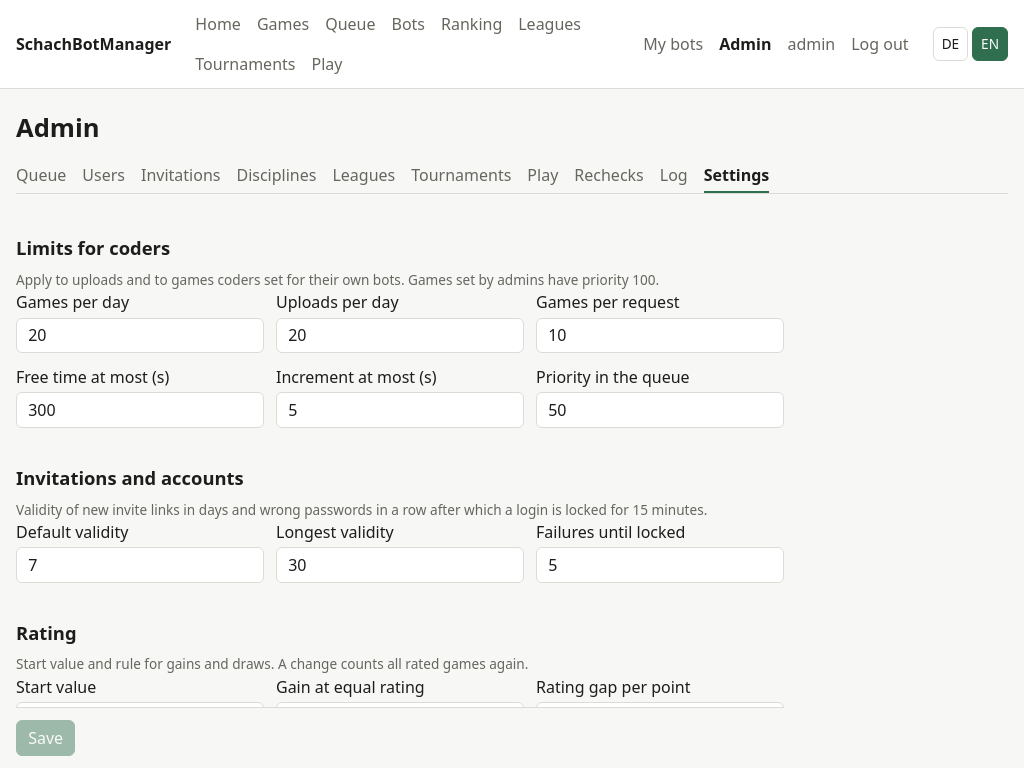
Test: admin settings › explains values that do not fit together
This screenshot has width=1024, height=768.
Expected: the heading "Invitations and accounts" is shown, [16, 465, 244, 490]
Replace the text in the number field labelled "Default validity" with "40" at (140, 565), box [16, 547, 264, 583]
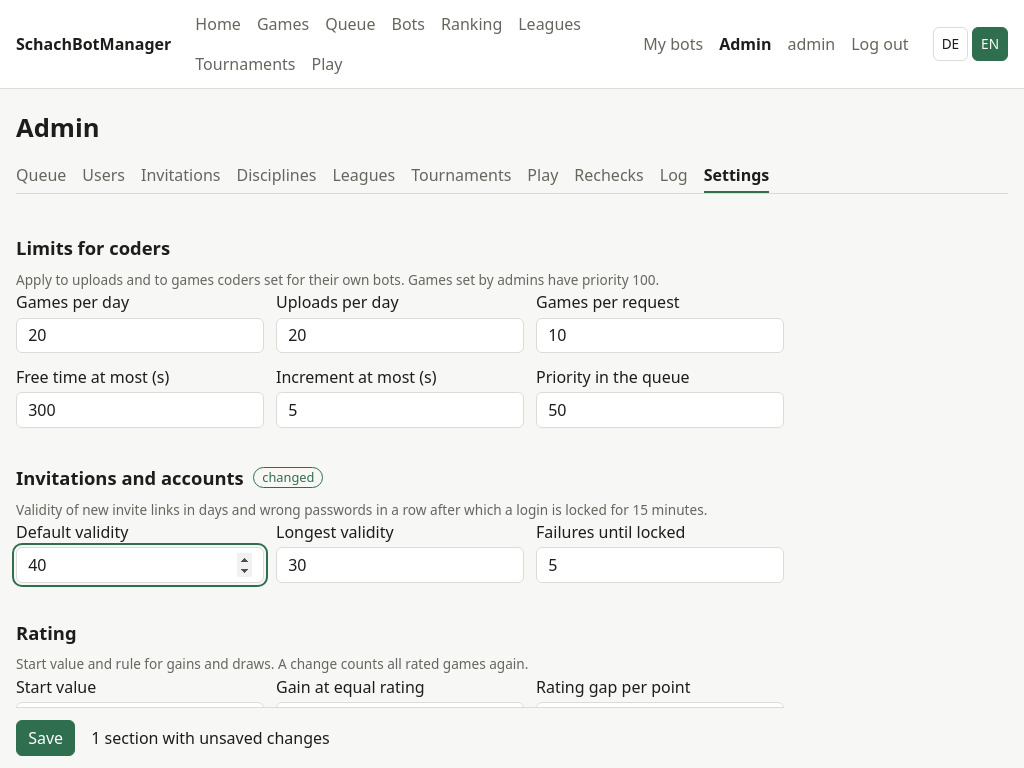
Click the button "Save" at (46, 738), box [16, 720, 75, 756]
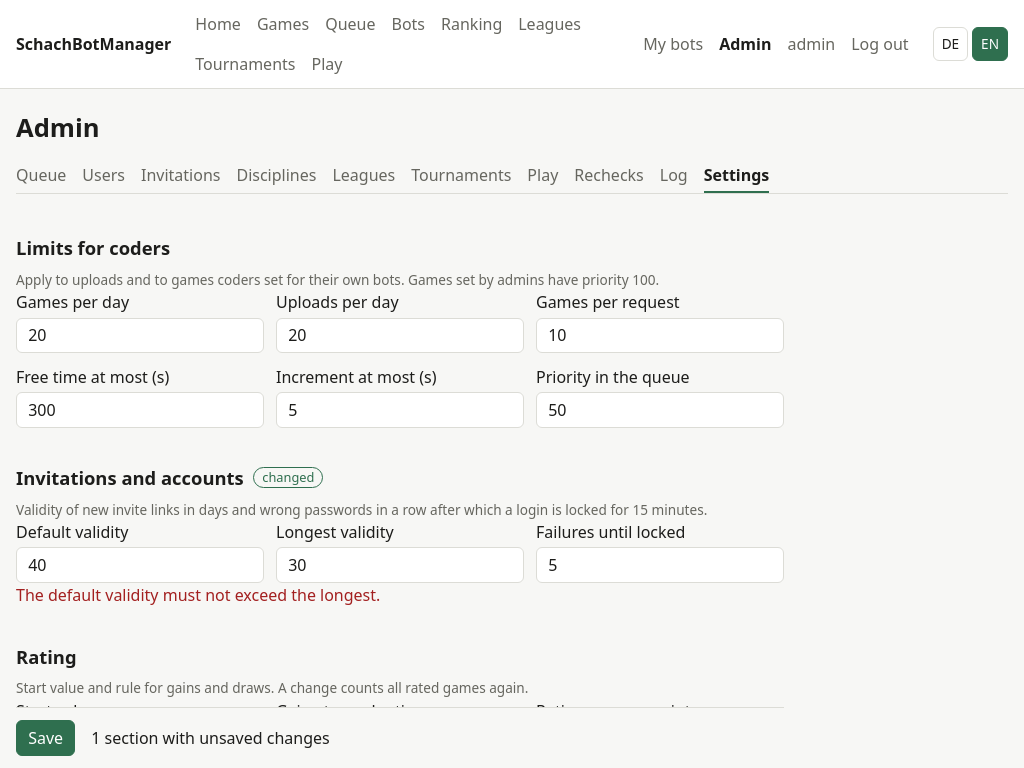
Expected: the message "The default validity must not exceed the longest." is shown, [16, 584, 380, 606]
